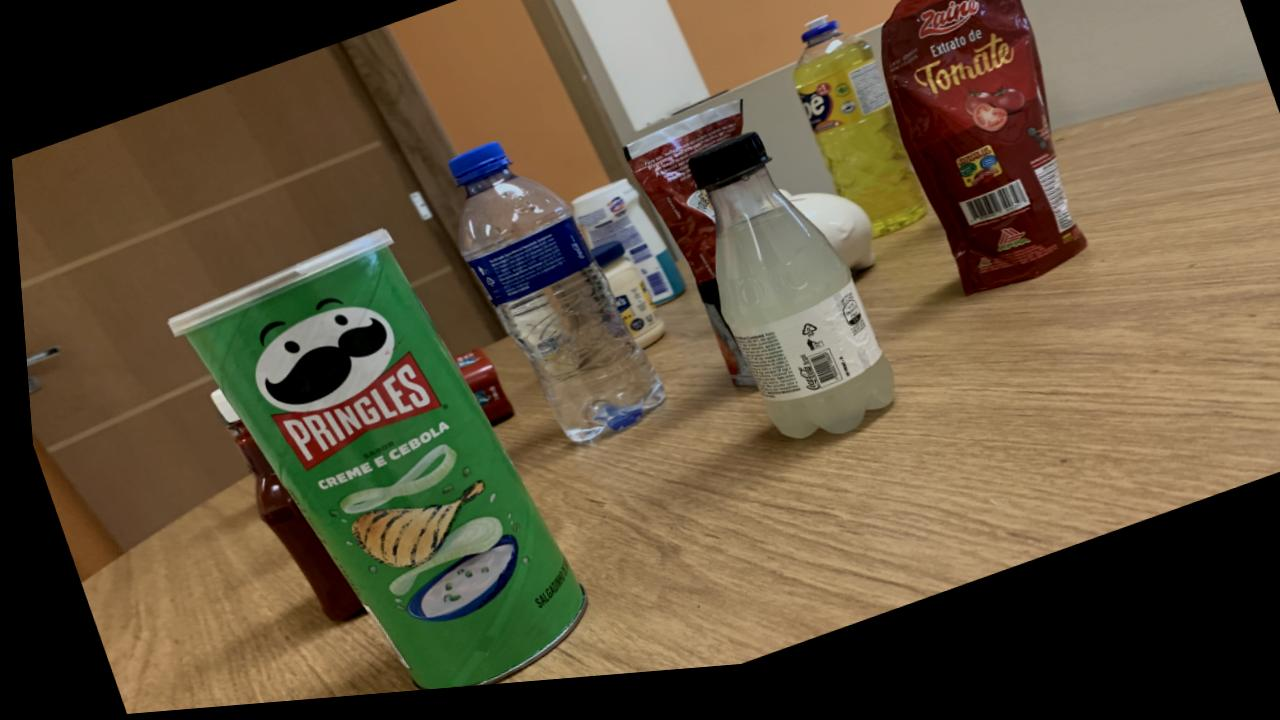Cleaner-Cleanup_Items: (568, 190, 680, 316)
Detergent-Cleanup_Items: (791, 31, 923, 252)
Ketchup-Pantry_Items: (204, 393, 354, 626)
Mayonnaise-Pantry_Items: (586, 251, 659, 358)
Pig_Safe-Miscellaneous: (777, 203, 870, 285)
Pringles-Snacks: (164, 235, 578, 696)
Soda-Drinks: (686, 147, 887, 451)
Tomato_Sauce-Pantry_Items: (879, 0, 1081, 310), (621, 112, 749, 399)
Tuna_Can-Pantry_Items: (449, 355, 507, 432)
Water_Bottle-Drinks: (446, 150, 658, 451)
